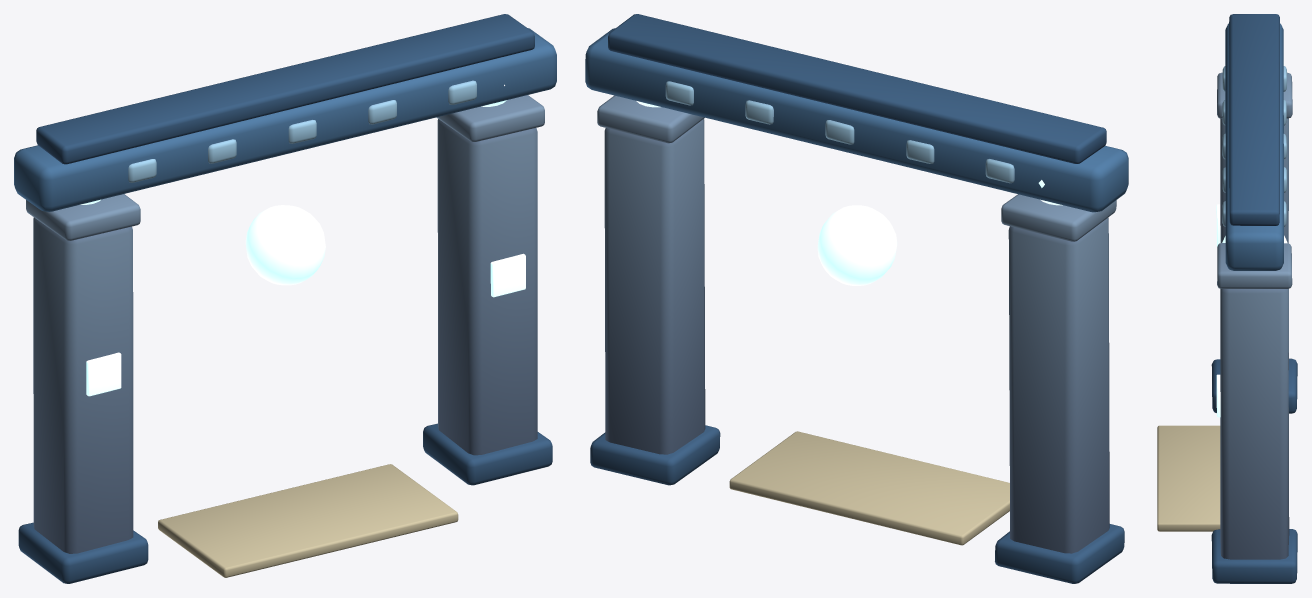
3 renders of one model, left to right at view 1: azimuth 30°, elevation 25°; view 2: azimuth 150°, elevation 25°; view 3: azimuth 270°, elevation 25°, orthographic. The views are drawn at different scales.
Parts seen in each view (by area): view 1: gate_b0449df0; view 2: gate_b0449df0; view 3: gate_b0449df0.
Part boxes in pixels (bbox=[...]): gate_b0449df0: bbox=[14, 14, 556, 583]; gate_b0449df0: bbox=[585, 14, 1128, 583]; gate_b0449df0: bbox=[1157, 14, 1297, 583].
Size of the model in its own units: 5.3 by 4.21 by 1.44.
